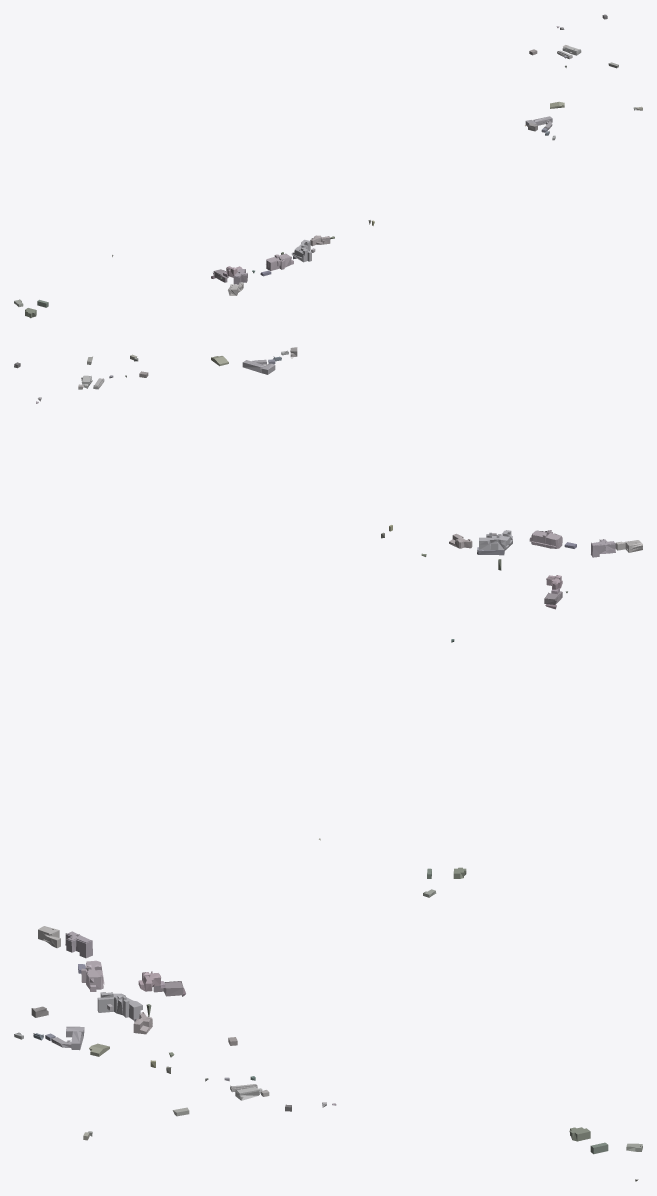
The picture shows the model from 3 angles, top to bottom: view 1: azimuth 30°, elevation 25°; view 2: azimuth 150°, elevation 25°; view 3: azimuth 270°, elevation 25°; orthographic projection. The views are drawn at different scales.
Parts seen in each view (by area): view 1: buildings; view 2: buildings; view 3: buildings.
Boxes of the visible parts, box(x1,y1,x2,y2) form: buildings: box(14, 14, 642, 318); buildings: box(14, 347, 642, 897); buildings: box(14, 926, 642, 1181).
Bounding box in the file's own units: 692 × 354 × 519.
